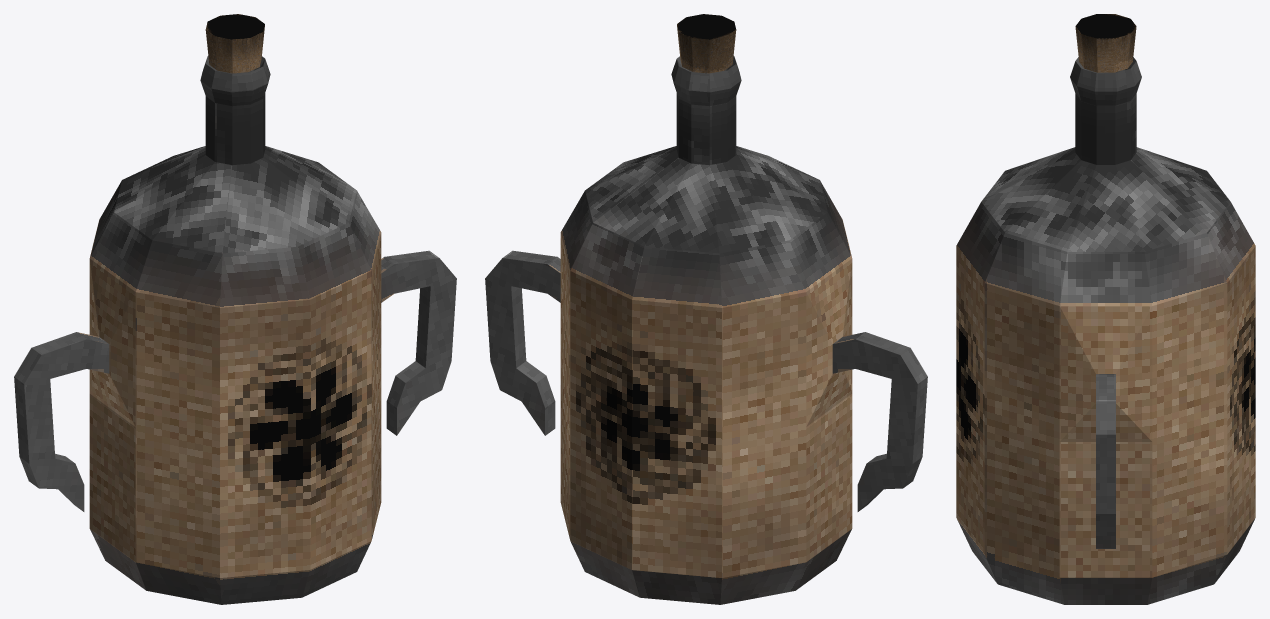
Rendered from petrify_bottle.glb.
3 views of the same model, side by side, from view 1: azimuth 30°, elevation 25°; view 2: azimuth 150°, elevation 25°; view 3: azimuth 270°, elevation 25° (orthographic).
Parts seen in each view (by area): view 1: Cylinder.008, Cylinder.001; view 2: Cylinder.008, Cylinder.001; view 3: Cylinder.008, Cylinder.001.
Part boxes in pixels (x1=…): Cylinder.008: x1=14, y1=56, x2=456, y2=604; Cylinder.001: x1=205, y1=14, x2=264, y2=73; Cylinder.008: x1=485, y1=56, x2=927, y2=604; Cylinder.001: x1=677, y1=14, x2=736, y2=73; Cylinder.008: x1=956, y1=57, x2=1255, y2=604; Cylinder.001: x1=1075, y1=14, x2=1136, y2=72.
Size of the model in its own units: 0.0868 by 0.1001 by 0.0518.
2 materials, 2 textured.
